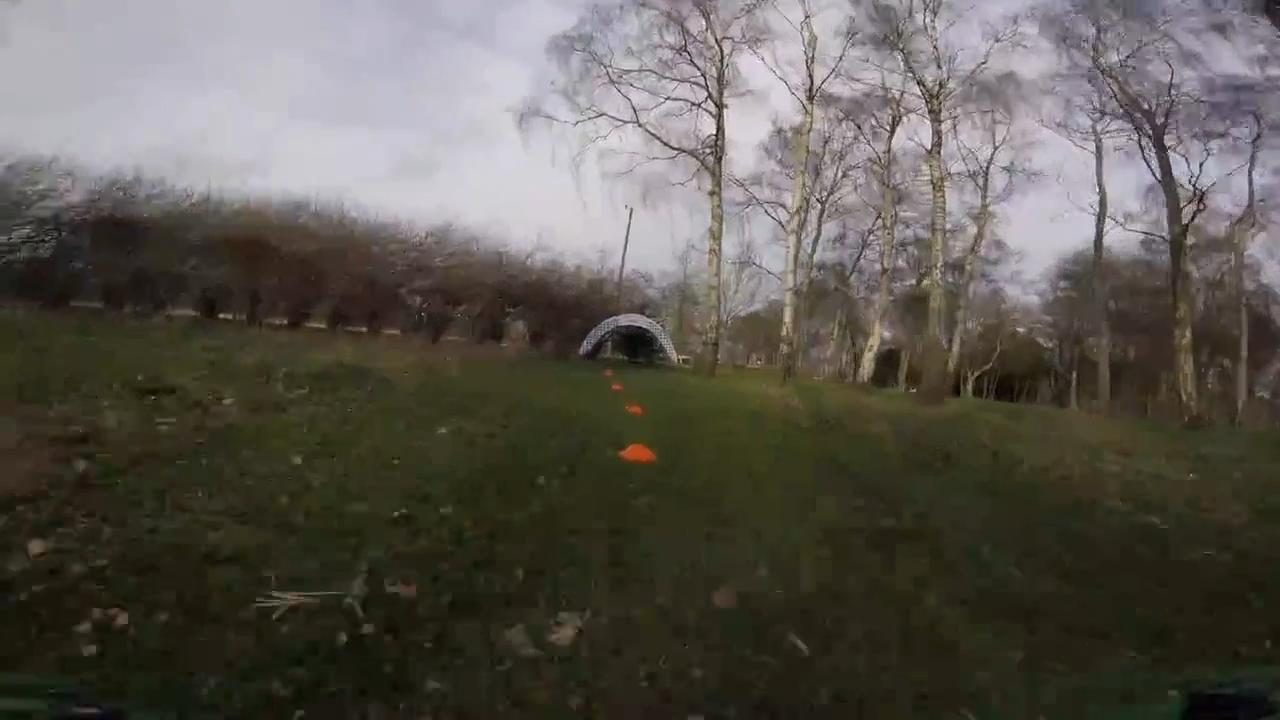gate: (578, 311, 679, 367)
